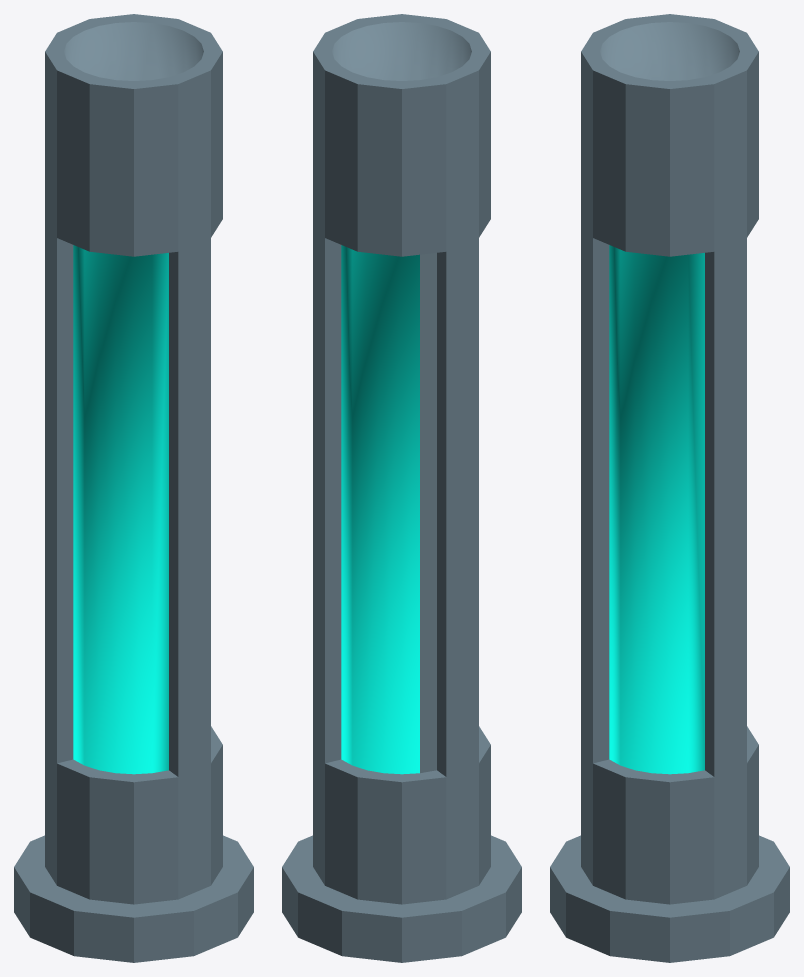
Rendered from pillar-02.fbx.
The picture shows the model from 3 angles, left to right: view 1: azimuth 30°, elevation 25°; view 2: azimuth 150°, elevation 25°; view 3: azimuth 270°, elevation 25°; orthographic projection.
Visible parts, largest first — view 1: pillar-02; view 2: pillar-02; view 3: pillar-02.
Boxes of the visible parts, box(x1,y1,x2,y2) form: pillar-02: box(14, 14, 253, 962); pillar-02: box(282, 14, 521, 962); pillar-02: box(550, 14, 789, 962).
Bounding box in the file's own units: 24 × 95 × 24.
